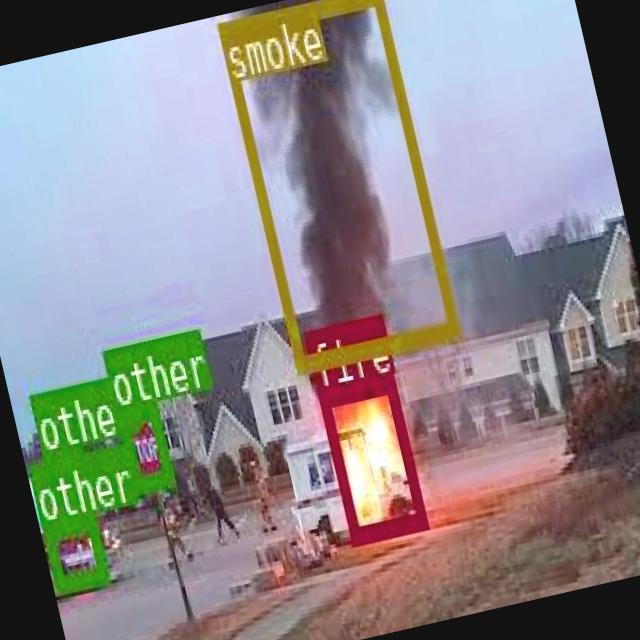fire: (316, 373, 424, 540)
smoke: (216, 0, 457, 370)
